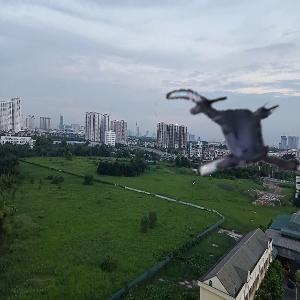drone: (159, 66, 299, 206)
